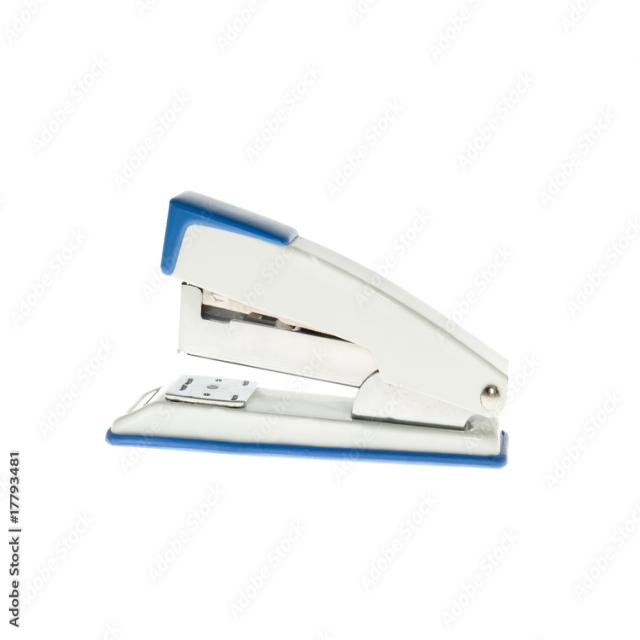Stapler: (100, 168, 538, 509)
